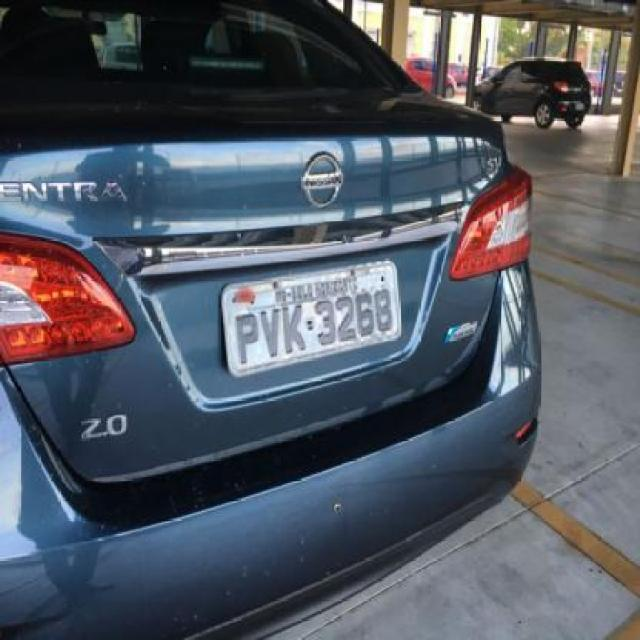old_plate: (213, 255, 407, 384)
